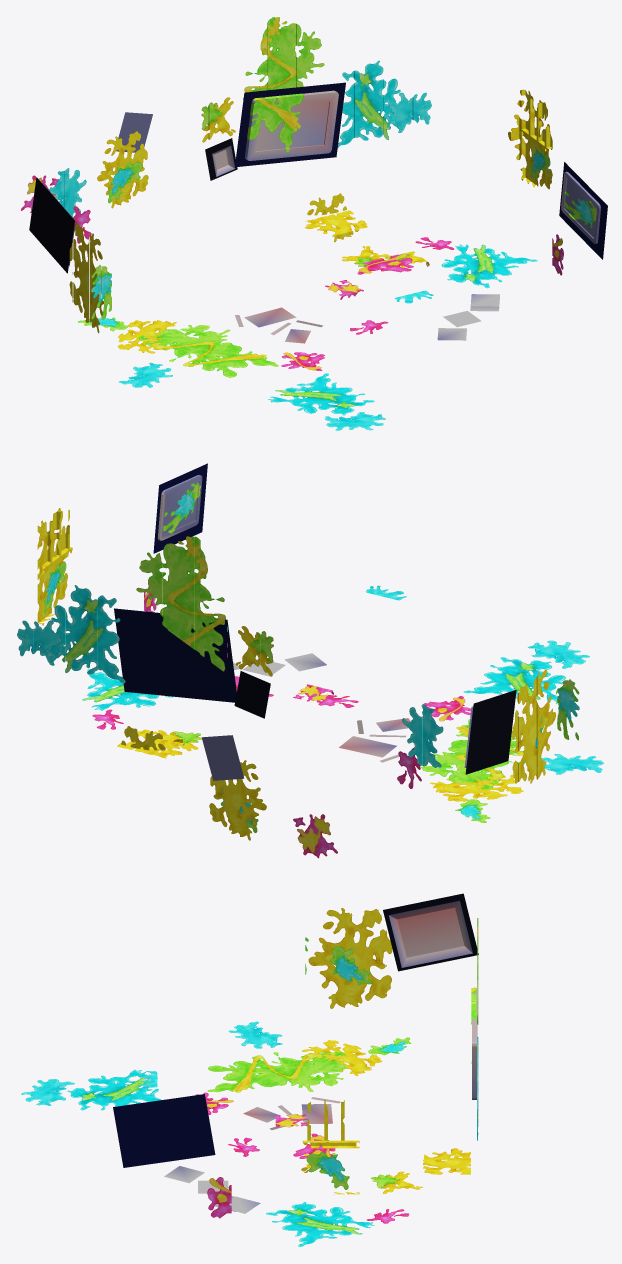
The model's file is mess.dae.
3 views of the same model, one above another, from view 1: azimuth 30°, elevation 25°; view 2: azimuth 150°, elevation 25°; view 3: azimuth 270°, elevation 25° (orthographic). The views are drawn at different scales.
Visible parts, largest first — view 1: vsn_mesh_3_mesh3, vsn_mesh_0_mesh0, vsn_mesh_6_mesh6, vsn_mesh_2_mesh2; view 2: vsn_mesh_3_mesh3, vsn_mesh_6_mesh6, vsn_mesh_0_mesh0, vsn_mesh_2_mesh2; view 3: vsn_mesh_3_mesh3, vsn_mesh_6_mesh6, vsn_mesh_5_mesh5, vsn_mesh_4_mesh4, vsn_mesh_0_mesh0, vsn_mesh_2_mesh2.
Boxes of the visible parts, x1,y1,x2,y2 form: vsn_mesh_3_mesh3: (21,17,596,430); vsn_mesh_0_mesh0: (116,90,600,343); vsn_mesh_6_mesh6: (29,82,607,273); vsn_mesh_2_mesh2: (437,294,499,340); vsn_mesh_3_mesh3: (17,482,603,858); vsn_mesh_6_mesh6: (114,463,516,774); vsn_mesh_0_mesh0: (157,475,410,780); vsn_mesh_2_mesh2: (233,653,326,676); vsn_mesh_3_mesh3: (21,908,478,1246); vsn_mesh_6_mesh6: (113,893,478,1167); vsn_mesh_5_mesh5: (397,907,464,957); vsn_mesh_4_mesh4: (389,900,477,1038); vsn_mesh_0_mesh0: (243,988,476,1124); vsn_mesh_2_mesh2: (164,1166,260,1213).
Size of the model in its own units: 11.37 by 12.02 by 5.37.
